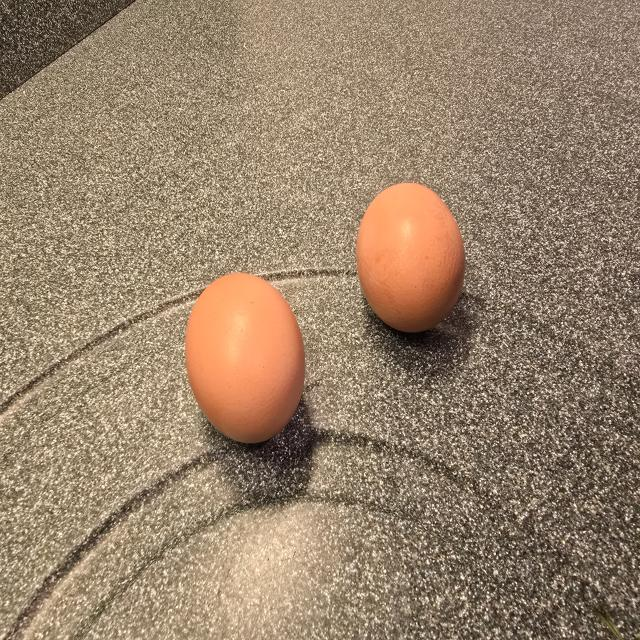Egg: (185, 274, 305, 443), (356, 183, 465, 332)
